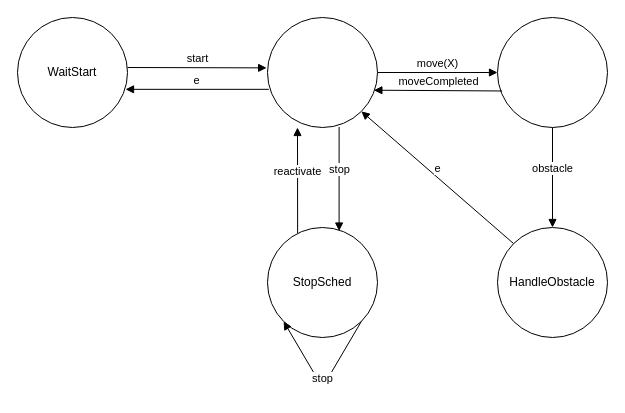
This 625x413 diagram has some shape labels left out. Each missing label, with the centre of its shape:
"Exec" belongs at (552,72).
"Sched" belongs at (322,72).
